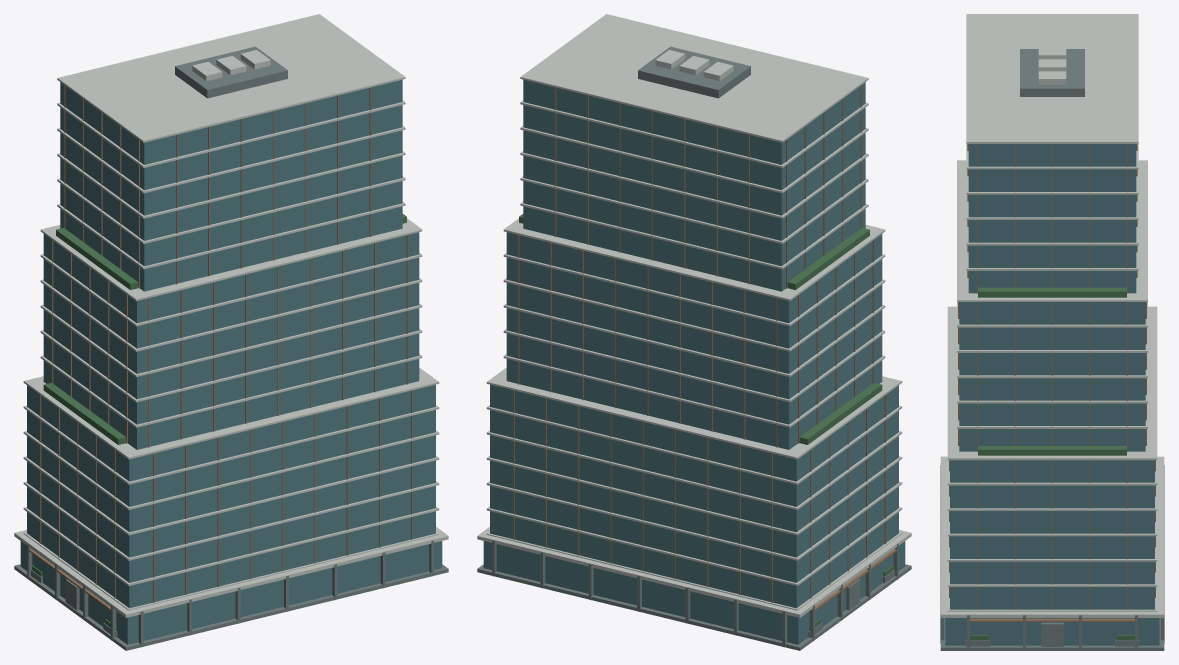
Rendered from architecture-0.glb.
3 views of the same model, side by side, from view 1: azimuth 30°, elevation 25°; view 2: azimuth 150°, elevation 25°; view 3: azimuth 270°, elevation 25° (orthographic).
Parts seen in each view (by area): view 1: Architecture_0_1, Architecture_0_0, Architecture_0_3, Architecture_0_2, Architecture_0_4; view 2: Architecture_0_1, Architecture_0_0, Architecture_0_3, Architecture_0_2, Architecture_0_4; view 3: Architecture_0_1, Architecture_0_0, Architecture_0_2, Architecture_0_3, Architecture_0_4.
Boxes of the visible parts, box(x1,y1,x2,y2) form: Architecture_0_1: box(20, 79, 442, 644); Architecture_0_0: box(14, 14, 448, 617); Architecture_0_3: box(29, 85, 412, 610); Architecture_0_2: box(14, 46, 448, 650); Architecture_0_4: box(32, 214, 406, 630); Architecture_0_1: box(483, 79, 905, 644); Architecture_0_0: box(477, 14, 911, 617); Architecture_0_3: box(513, 85, 896, 610); Architecture_0_2: box(477, 46, 911, 650); Architecture_0_4: box(519, 214, 893, 630); Architecture_0_1: box(945, 144, 1159, 645); Architecture_0_0: box(940, 14, 1164, 617); Architecture_0_2: box(940, 49, 1164, 650); Architecture_0_3: box(949, 144, 1155, 621); Architecture_0_4: box(970, 287, 1134, 640).
Bounding box in the file's own units: 40.05 × 60.15 × 24.05.
